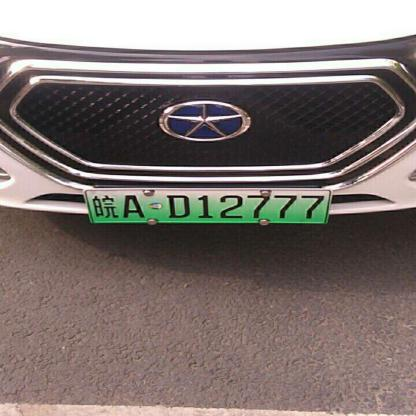lp: (85, 190, 330, 224)
